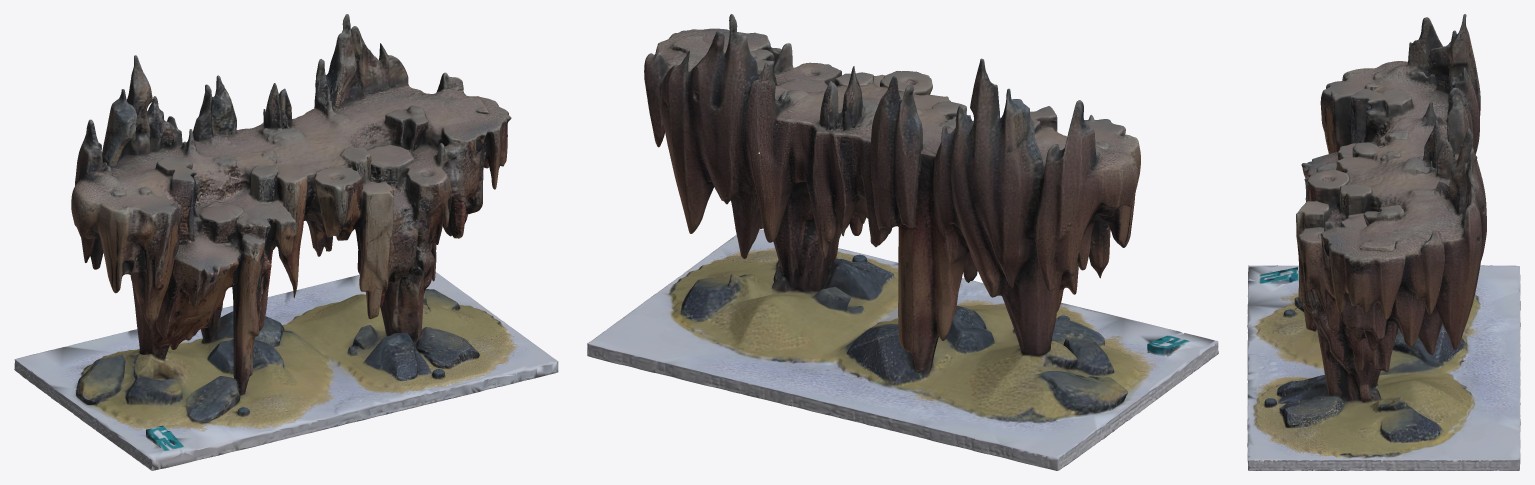
Rendered from daobay2-v2.glb.
3 renders of one model, left to right at view 1: azimuth 30°, elevation 25°; view 2: azimuth 150°, elevation 25°; view 3: azimuth 270°, elevation 25°, orthographic. The views are drawn at different scales.
Parts seen in each view (by area): view 1: tripo_node_e49734cd-498e-4eca-8447-2115930e3f3c; view 2: tripo_node_e49734cd-498e-4eca-8447-2115930e3f3c; view 3: tripo_node_e49734cd-498e-4eca-8447-2115930e3f3c.
Boxes of the visible parts, box(x1,y1,x2,y2) form: tripo_node_e49734cd-498e-4eca-8447-2115930e3f3c: box(14, 14, 558, 470); tripo_node_e49734cd-498e-4eca-8447-2115930e3f3c: box(587, 14, 1218, 470); tripo_node_e49734cd-498e-4eca-8447-2115930e3f3c: box(1247, 14, 1520, 470).
Bounding box in the file's own units: 0.9993 × 0.7183 × 0.5796.
Materials: 1 (1 with a texture image).
